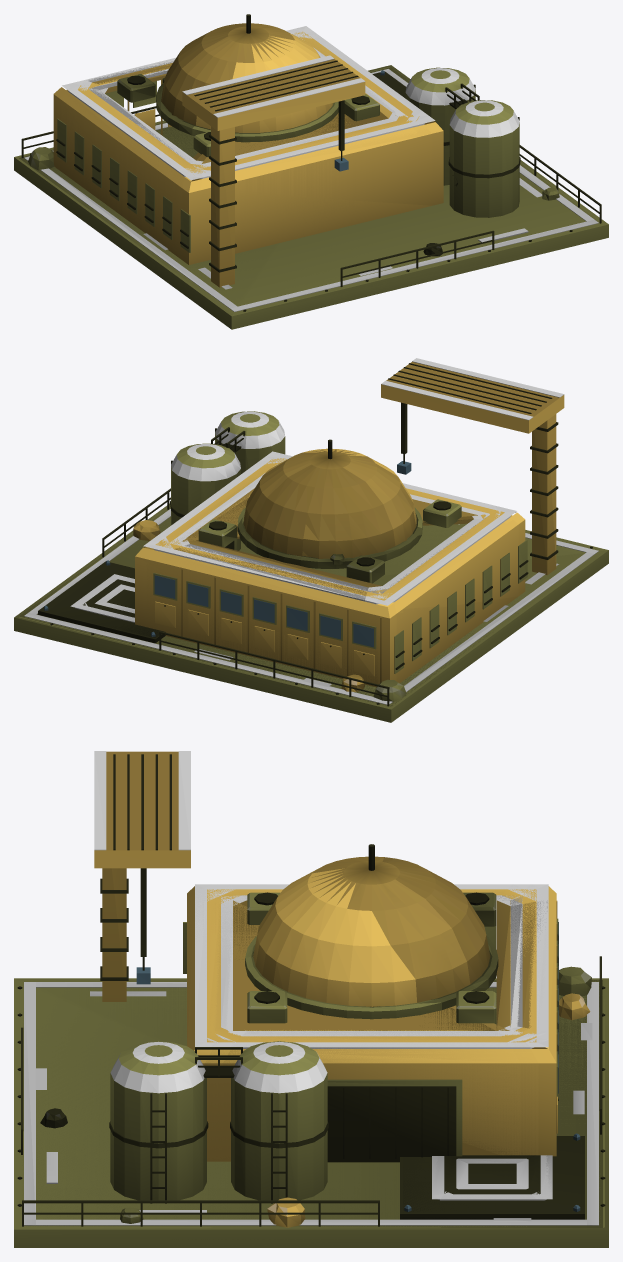
File: meridian_construction_center_damaged.glb
The picture shows the model from 3 angles, top to bottom: view 1: azimuth 30°, elevation 25°; view 2: azimuth 150°, elevation 25°; view 3: azimuth 270°, elevation 25°; orthographic projection. The views are drawn at different scales.
Visible parts, largest first — view 1: body (×3); view 2: body (×3); view 3: body (×3).
Part boxes in pixels (x1,y1,x2,y2): body (×3): [14, 14, 608, 329]; body (×3): [14, 358, 608, 722]; body (×3): [14, 751, 608, 1247].
Size of the model in its own units: 14.8 by 7.02 by 14.8.
